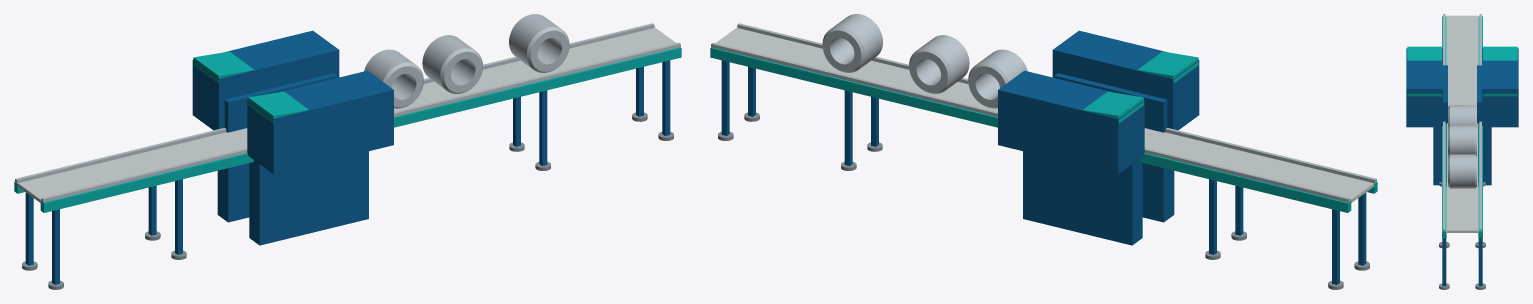
The model's file is bearing_identification_line.dae.
3 renders of one model, left to right at view 1: azimuth 30°, elevation 25°; view 2: azimuth 150°, elevation 25°; view 3: azimuth 270°, elevation 25°, orthographic. The views are drawn at different scales.
Visible parts, largest first — view 1: bearing_identification_line; view 2: bearing_identification_line; view 3: bearing_identification_line.
Boxes of the visible parts, left/top/right/bottom form: bearing_identification_line: left=14, top=14, right=681, bottom=289; bearing_identification_line: left=710, top=14, right=1377, bottom=289; bearing_identification_line: left=1406, top=14, right=1518, bottom=289.
Size of the model in its own units: 7 by 1.54 by 1.52.
